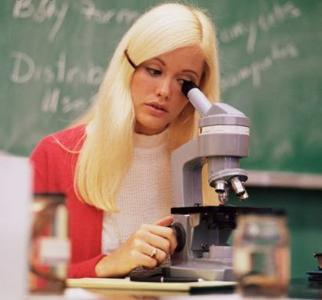person: (29, 2, 225, 279)
